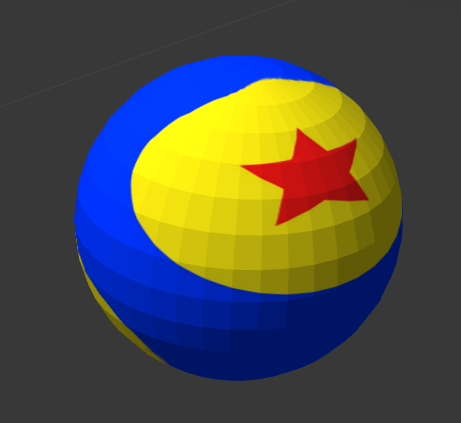toy story ball: (74, 55, 403, 380)
